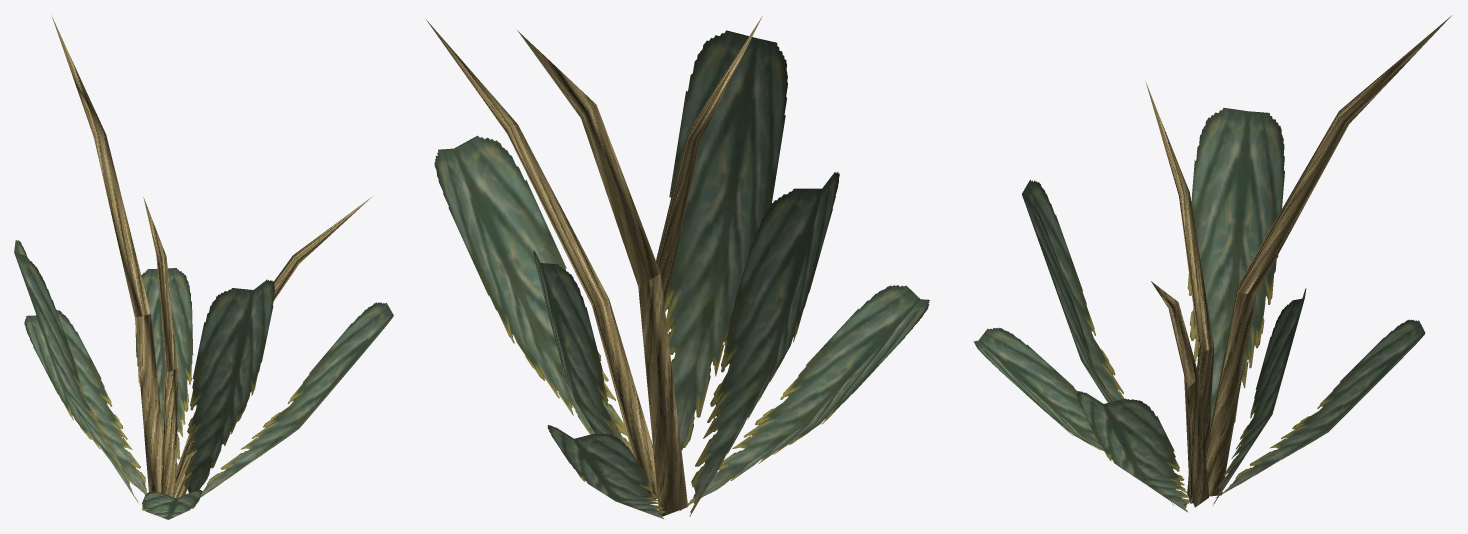
The model's file is INST_OH_SPIKE_SHRUB_01.obj.
The picture shows the model from 3 angles, left to right: view 1: azimuth 30°, elevation 25°; view 2: azimuth 150°, elevation 25°; view 3: azimuth 270°, elevation 25°; orthographic projection. The views are drawn at different scales.
Visible parts, largest first — view 1: nst_SpikePlant_; view 2: nst_SpikePlant_; view 3: nst_SpikePlant_.
Part boxes in pixels (bbox=[...]): nst_SpikePlant_: bbox=[14, 15, 393, 519]; nst_SpikePlant_: bbox=[426, 16, 929, 518]; nst_SpikePlant_: bbox=[973, 15, 1451, 512].
Bounding box in the file's own units: 91.83 × 114 × 103.
